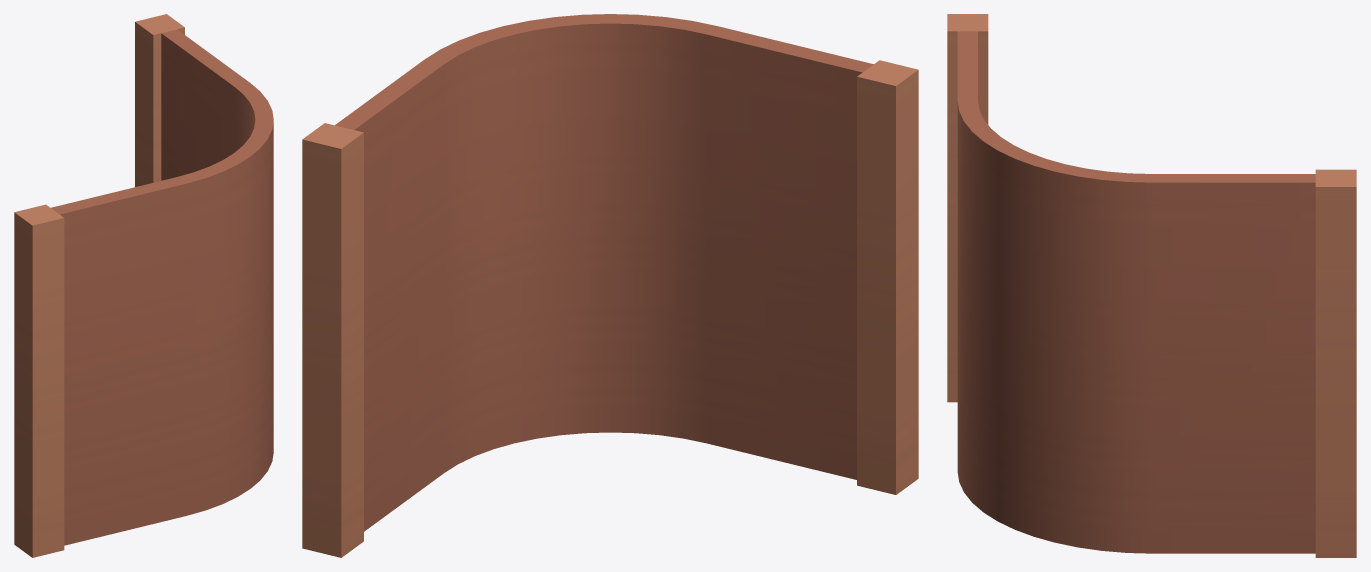
Rendered from wall-wood-rounded.fbx.
3 views of the same model, side by side, from view 1: azimuth 30°, elevation 25°; view 2: azimuth 150°, elevation 25°; view 3: azimuth 270°, elevation 25° (orthographic). The views are drawn at different scales.
Parts seen in each view (by area): view 1: wall-wood-rounded; view 2: wall-wood-rounded; view 3: wall-wood-rounded.
Part boxes in pixels (box(x1,y1,x2,y2)): wall-wood-rounded: box(14, 14, 273, 557); wall-wood-rounded: box(302, 14, 918, 557); wall-wood-rounded: box(947, 14, 1356, 557).
Bounding box in the file's own units: 100 × 100 × 100.
1 material, 1 textured.
